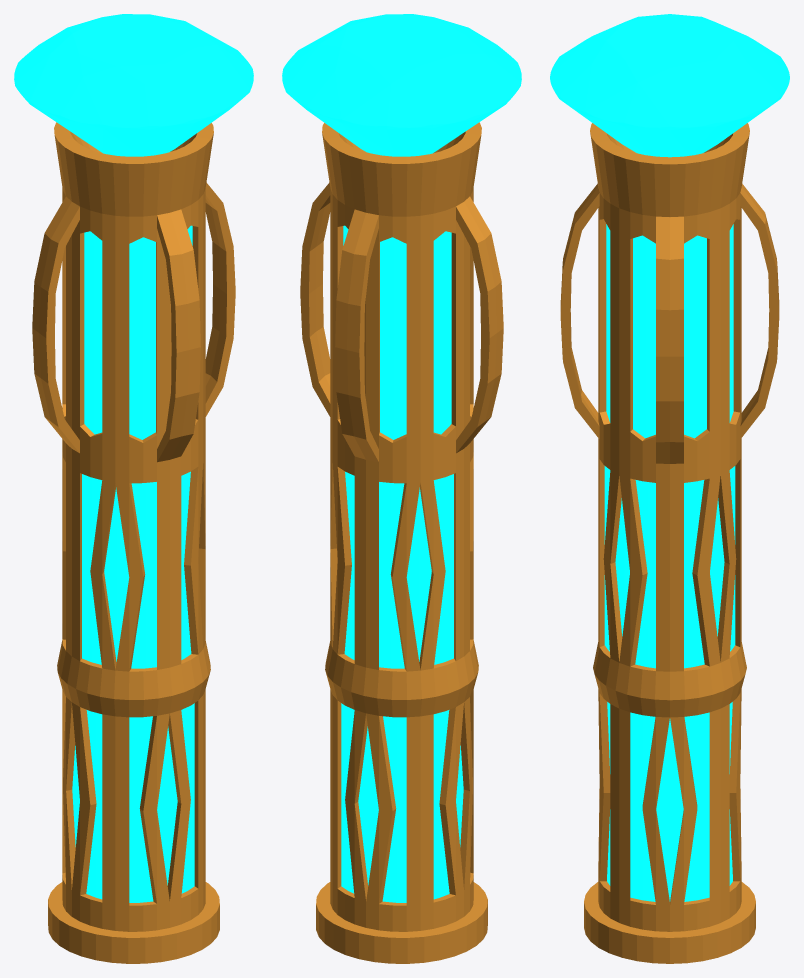
The model's file is AetherPillar.fbx.
3 views of the same model, side by side, from view 1: azimuth 30°, elevation 25°; view 2: azimuth 150°, elevation 25°; view 3: azimuth 270°, elevation 25° (orthographic).
Parts seen in each view (by area): view 1: AetherPillar; view 2: AetherPillar; view 3: AetherPillar.
Boxes of the visible parts, x1=… form: AetherPillar: x1=14, y1=14, x2=253, y2=963; AetherPillar: x1=282, y1=14, x2=521, y2=963; AetherPillar: x1=550, y1=14, x2=789, y2=963.
Bounding box in the file's own units: 334 × 1365 × 334.
